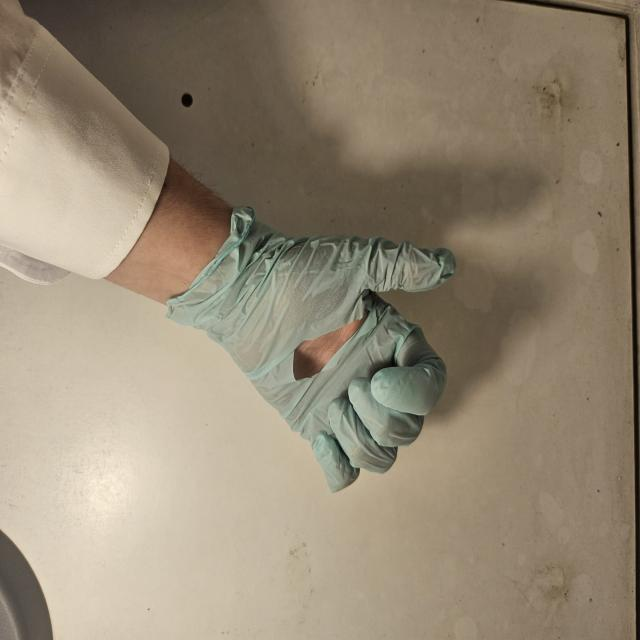gloves_damaged: (162, 199, 462, 495)
